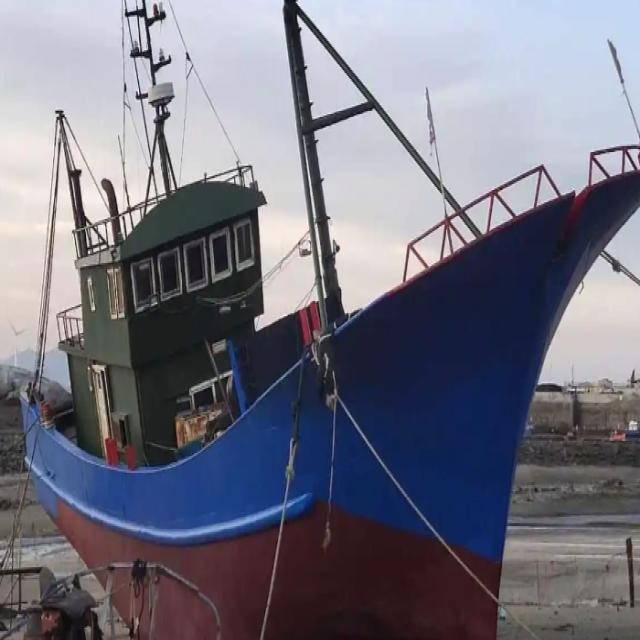fishing boat: (16, 0, 624, 639)
